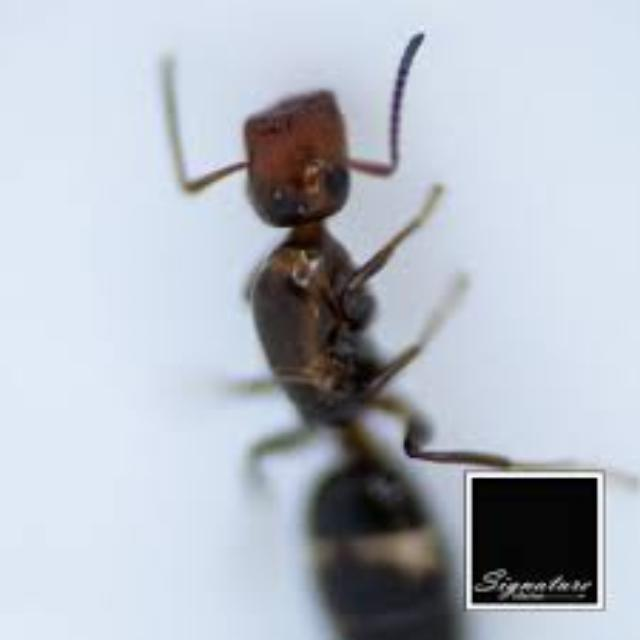Colobopsis: (148, 16, 552, 640)
